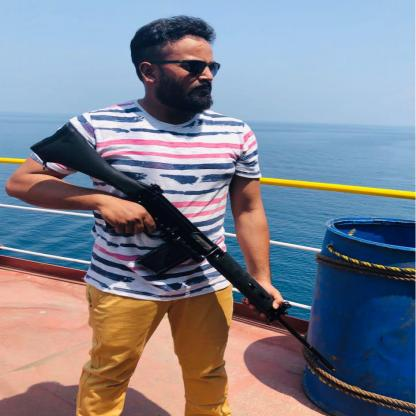rifle: (27, 121, 338, 374)
